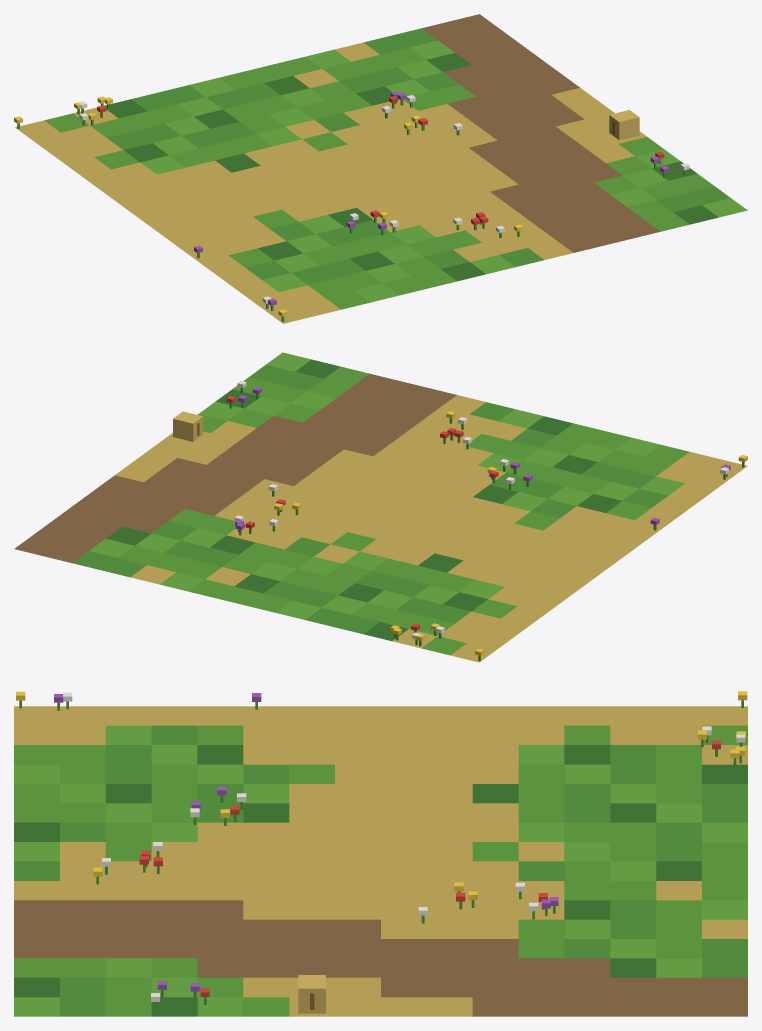
Rendered from chunk_1_13.glb.
3 views of the same model, one above another, from view 1: azimuth 30°, elevation 25°; view 2: azimuth 150°, elevation 25°; view 3: azimuth 270°, elevation 25° (orthographic). The views are drawn at different scales.
Visible parts, largest first — view 1: chunk_1_13; view 2: chunk_1_13; view 3: chunk_1_13.
Part boxes in pixels (x1,y1,x2,y2): chunk_1_13: (14, 14, 747, 323); chunk_1_13: (14, 352, 747, 662); chunk_1_13: (14, 691, 747, 1016).
Bounding box in the file's own units: 16.04 × 0.6 × 16.
